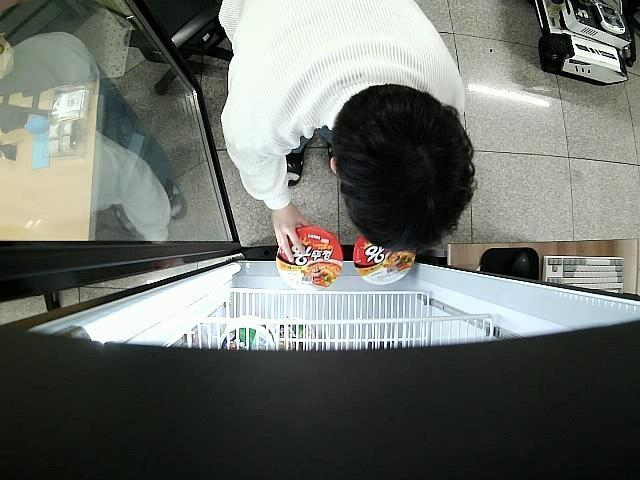10_wangTtukkeong: (276, 228, 342, 292)
